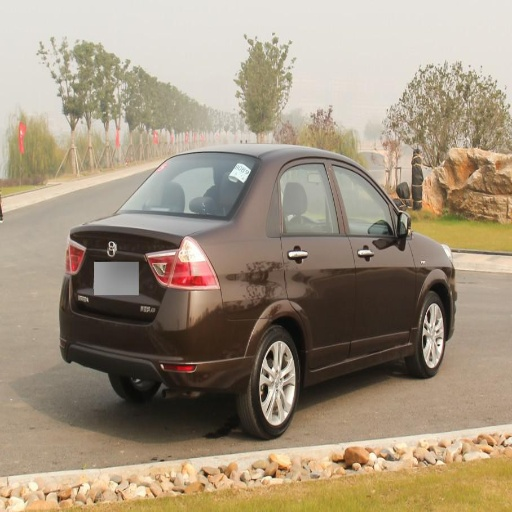back_bumper: (58, 278, 258, 389)
back_right_door: (274, 157, 356, 368)
